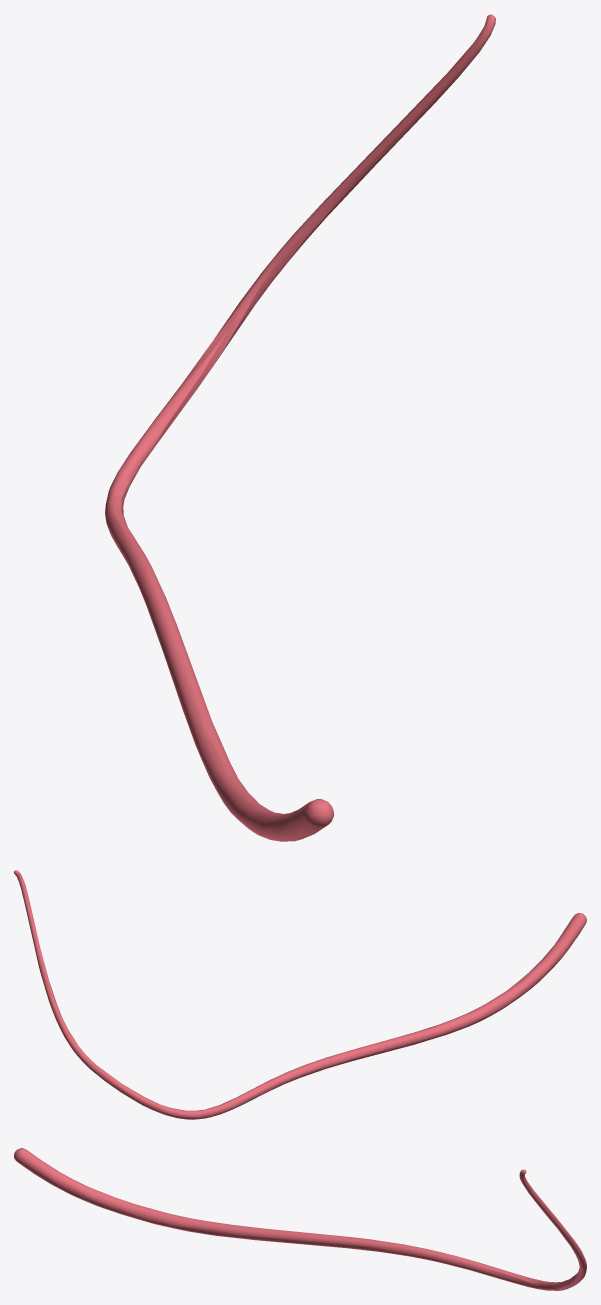
File: fma20802_fj2078.glb
The picture shows the model from 3 angles, top to bottom: view 1: azimuth 30°, elevation 25°; view 2: azimuth 150°, elevation 25°; view 3: azimuth 270°, elevation 25°; orthographic projection. The views are drawn at different scales.
Visible parts, largest first — view 1: FMA20802_FJ2078; view 2: FMA20802_FJ2078; view 3: FMA20802_FJ2078.
Boxes of the visible parts, x1,y1,x2,y2 form: FMA20802_FJ2078: (105, 14, 495, 841); FMA20802_FJ2078: (14, 870, 586, 1119); FMA20802_FJ2078: (14, 1148, 586, 1290).
Bounding box in the file's own units: 0.0445 × 0.0258 × 0.0631.
